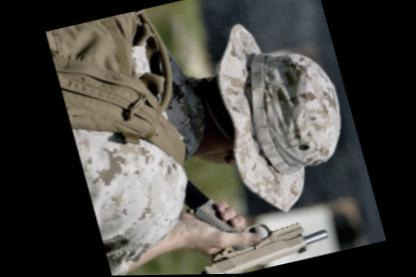pistol: (182, 175, 338, 273)
